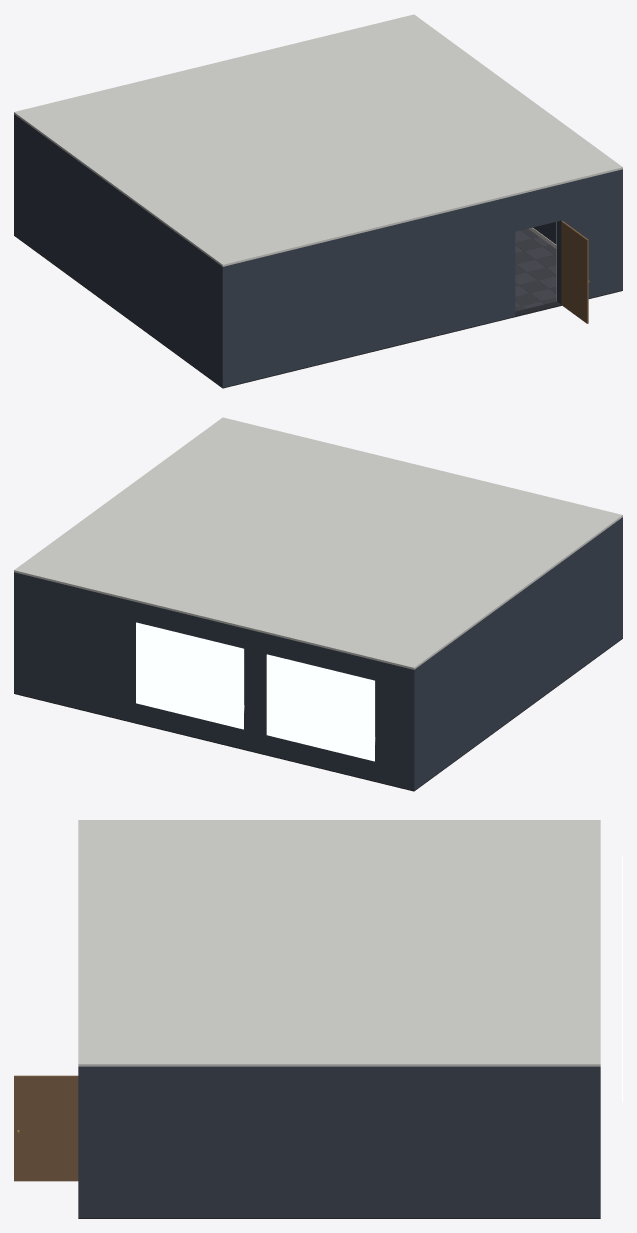
Rendered from office.glb.
The picture shows the model from 3 angles, top to bottom: view 1: azimuth 30°, elevation 25°; view 2: azimuth 150°, elevation 25°; view 3: azimuth 270°, elevation 25°; orthographic projection. The views are drawn at different scales.
Parts seen in each view (by area): view 1: office_room; view 2: office_room; view 3: office_room.
Part boxes in pixels (box(x1,y1,x2,y2)): office_room: box(14, 14, 622, 388); office_room: box(14, 417, 622, 791); office_room: box(14, 820, 622, 1218).
Bounding box in the file's own units: 10.4 × 3.07 × 10.96.
